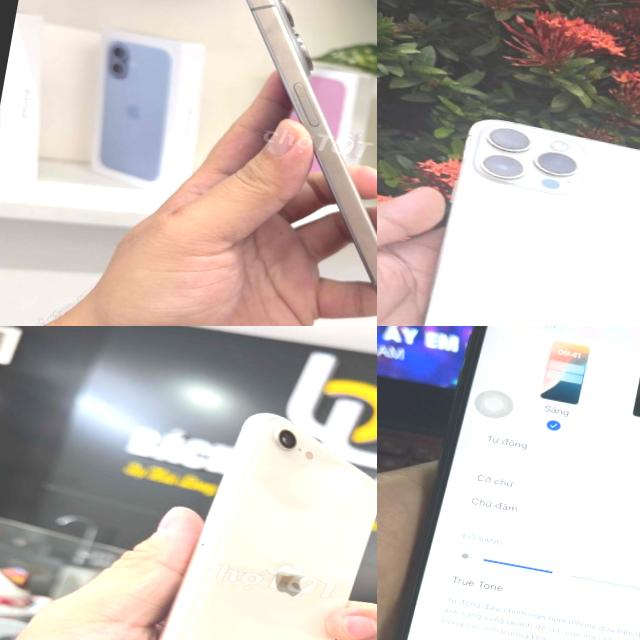gen_11: (383, 326, 640, 640)
gen_14: (405, 106, 640, 326)
gen_15: (173, 0, 377, 326)
gen_7_8: (125, 387, 377, 640)
